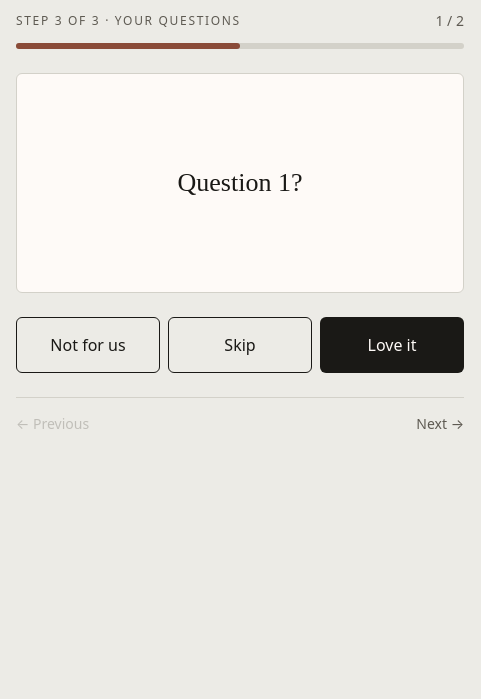
Test: discussion questions › feedback needs an account › can be dismissed
The image size is (481, 699).
Step 1. Click the button "Love it" → (392, 345), box [320,317,464,373]
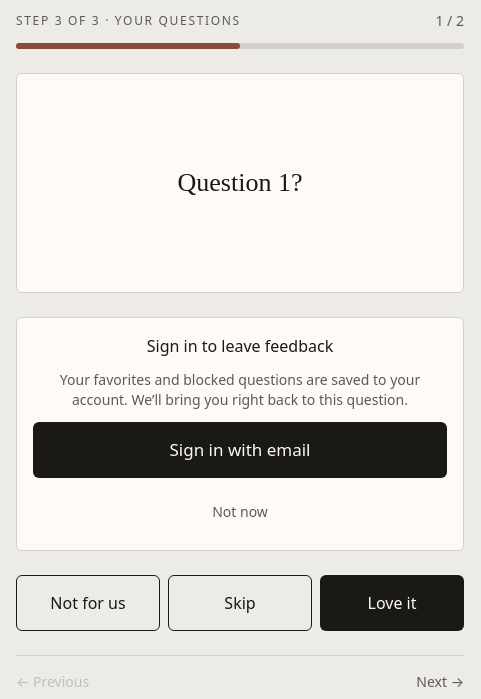
Step 2. Click the button "Not now" → (240, 512), box [212,490,268,534]
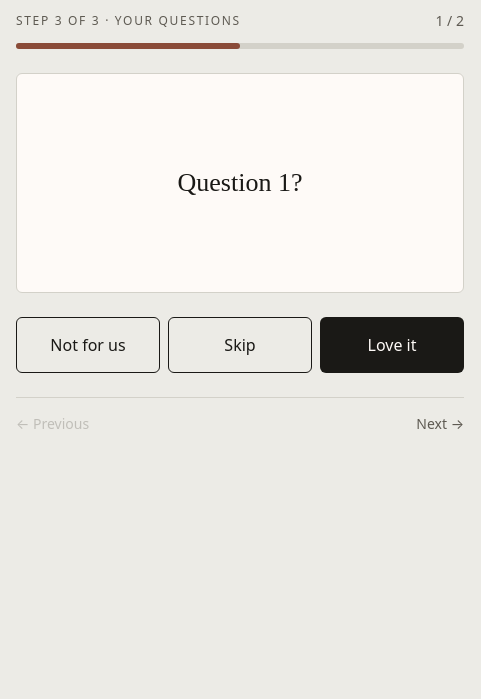
expect the text "Sign in to leave feedback" is gone: met
